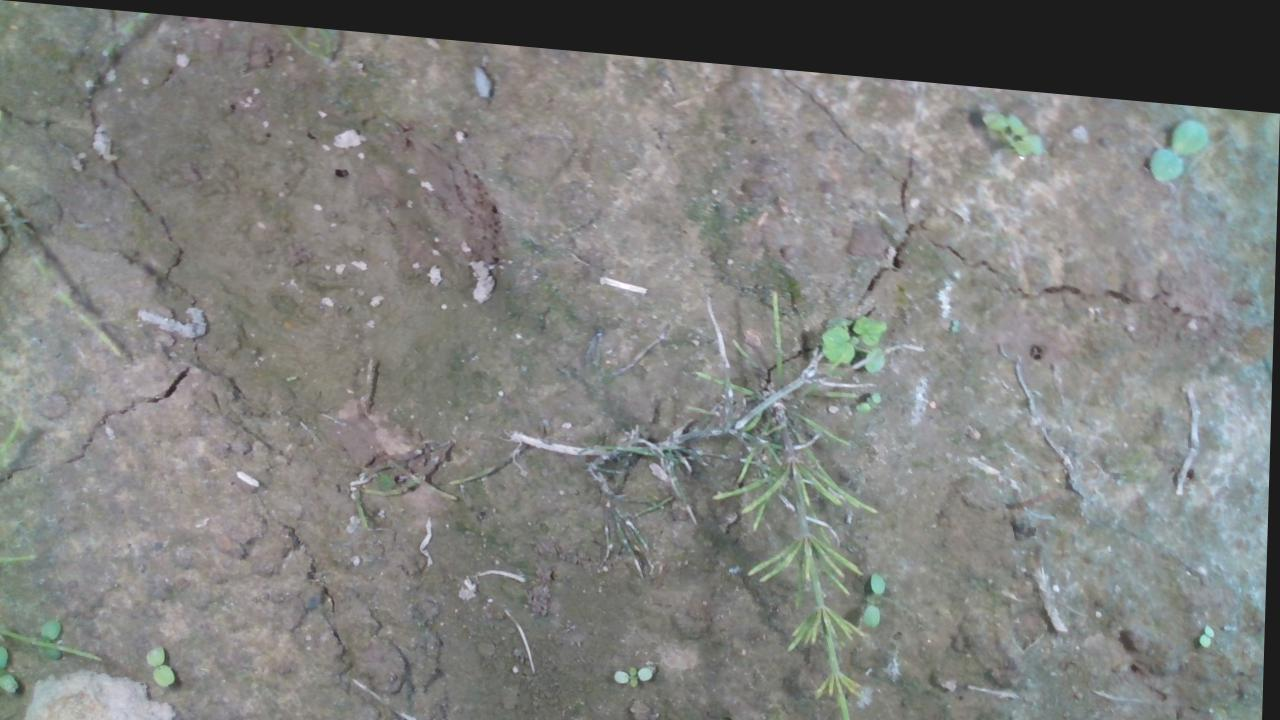weed: (1144, 92, 1208, 162), (864, 553, 890, 610), (148, 640, 180, 684), (0, 643, 24, 692), (614, 649, 656, 676), (855, 372, 883, 396), (1199, 599, 1218, 627)
